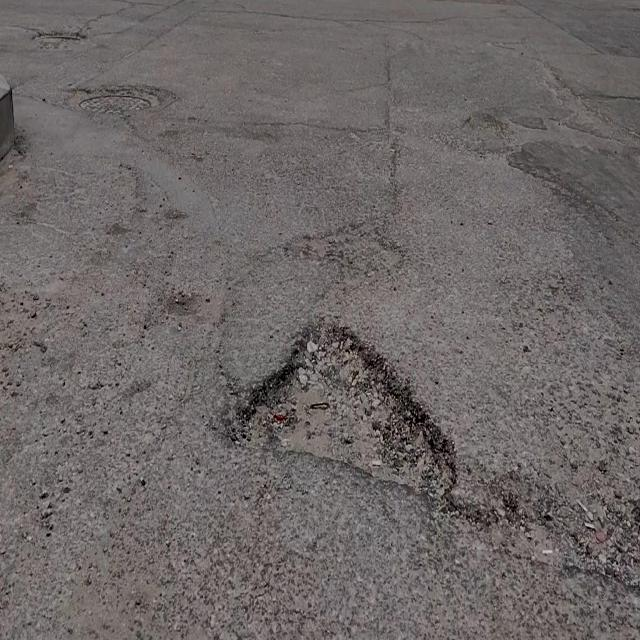Potholes: (225, 316, 457, 506)
